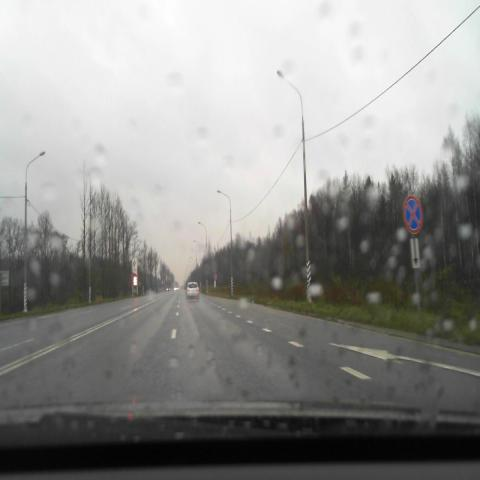3_27: (403, 195, 423, 233)
8_2_3: (410, 237, 420, 269)
